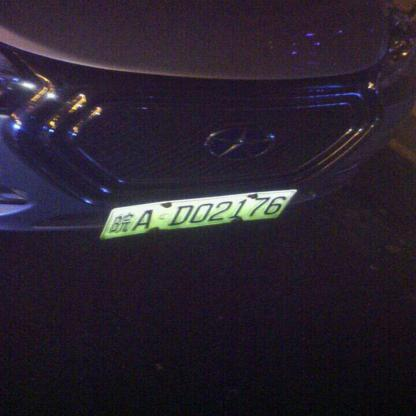lp: (102, 191, 293, 238)
